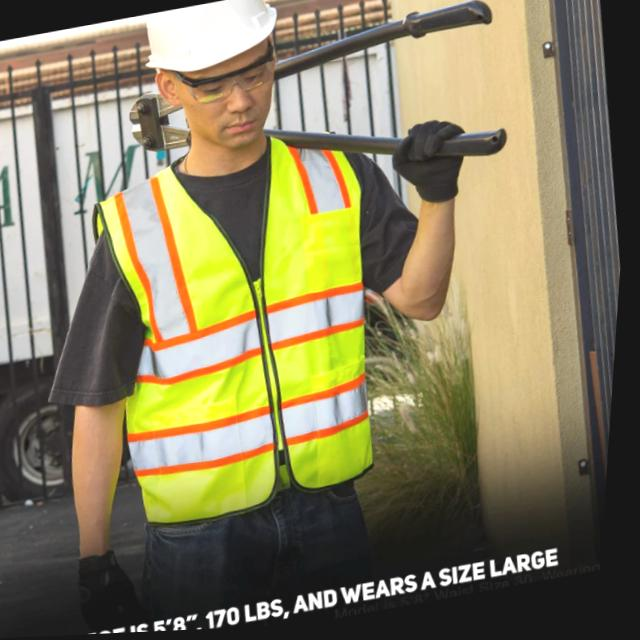helmet: (135, 0, 283, 75)
vest: (89, 139, 414, 522)
